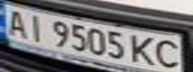0: (84, 25, 106, 56)
5: (106, 28, 130, 61), (66, 23, 90, 53)
9: (45, 17, 72, 48)
A: (3, 7, 30, 38)
C: (151, 37, 187, 71)
I: (21, 11, 51, 42)
K: (127, 34, 160, 68)
